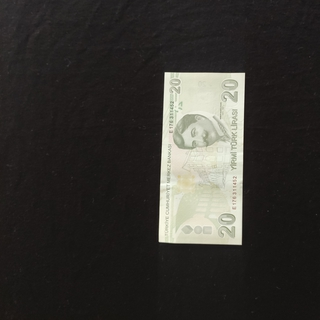20TLBack: (158, 71, 245, 245)
